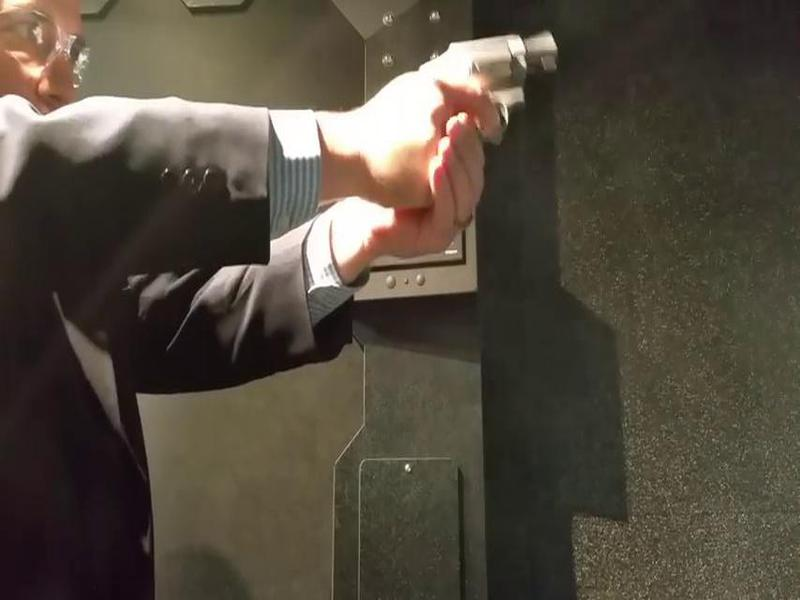Revolver: (397, 27, 576, 147)
